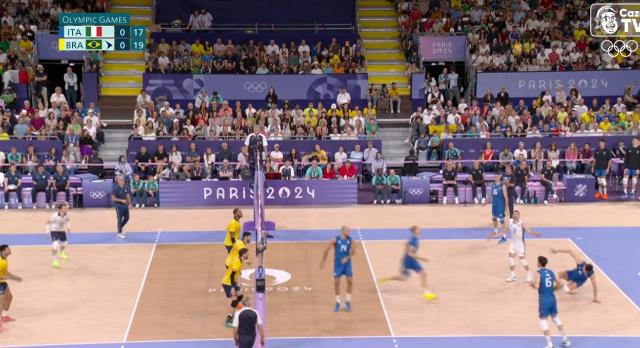Levantador: (221, 247, 251, 310), (397, 224, 427, 278)
Libero: (44, 202, 72, 268), (507, 210, 528, 280)
bola: (512, 43, 522, 53)
